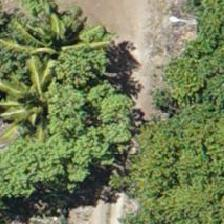coconut_tree: (13, 1, 103, 91), (0, 60, 73, 150)
